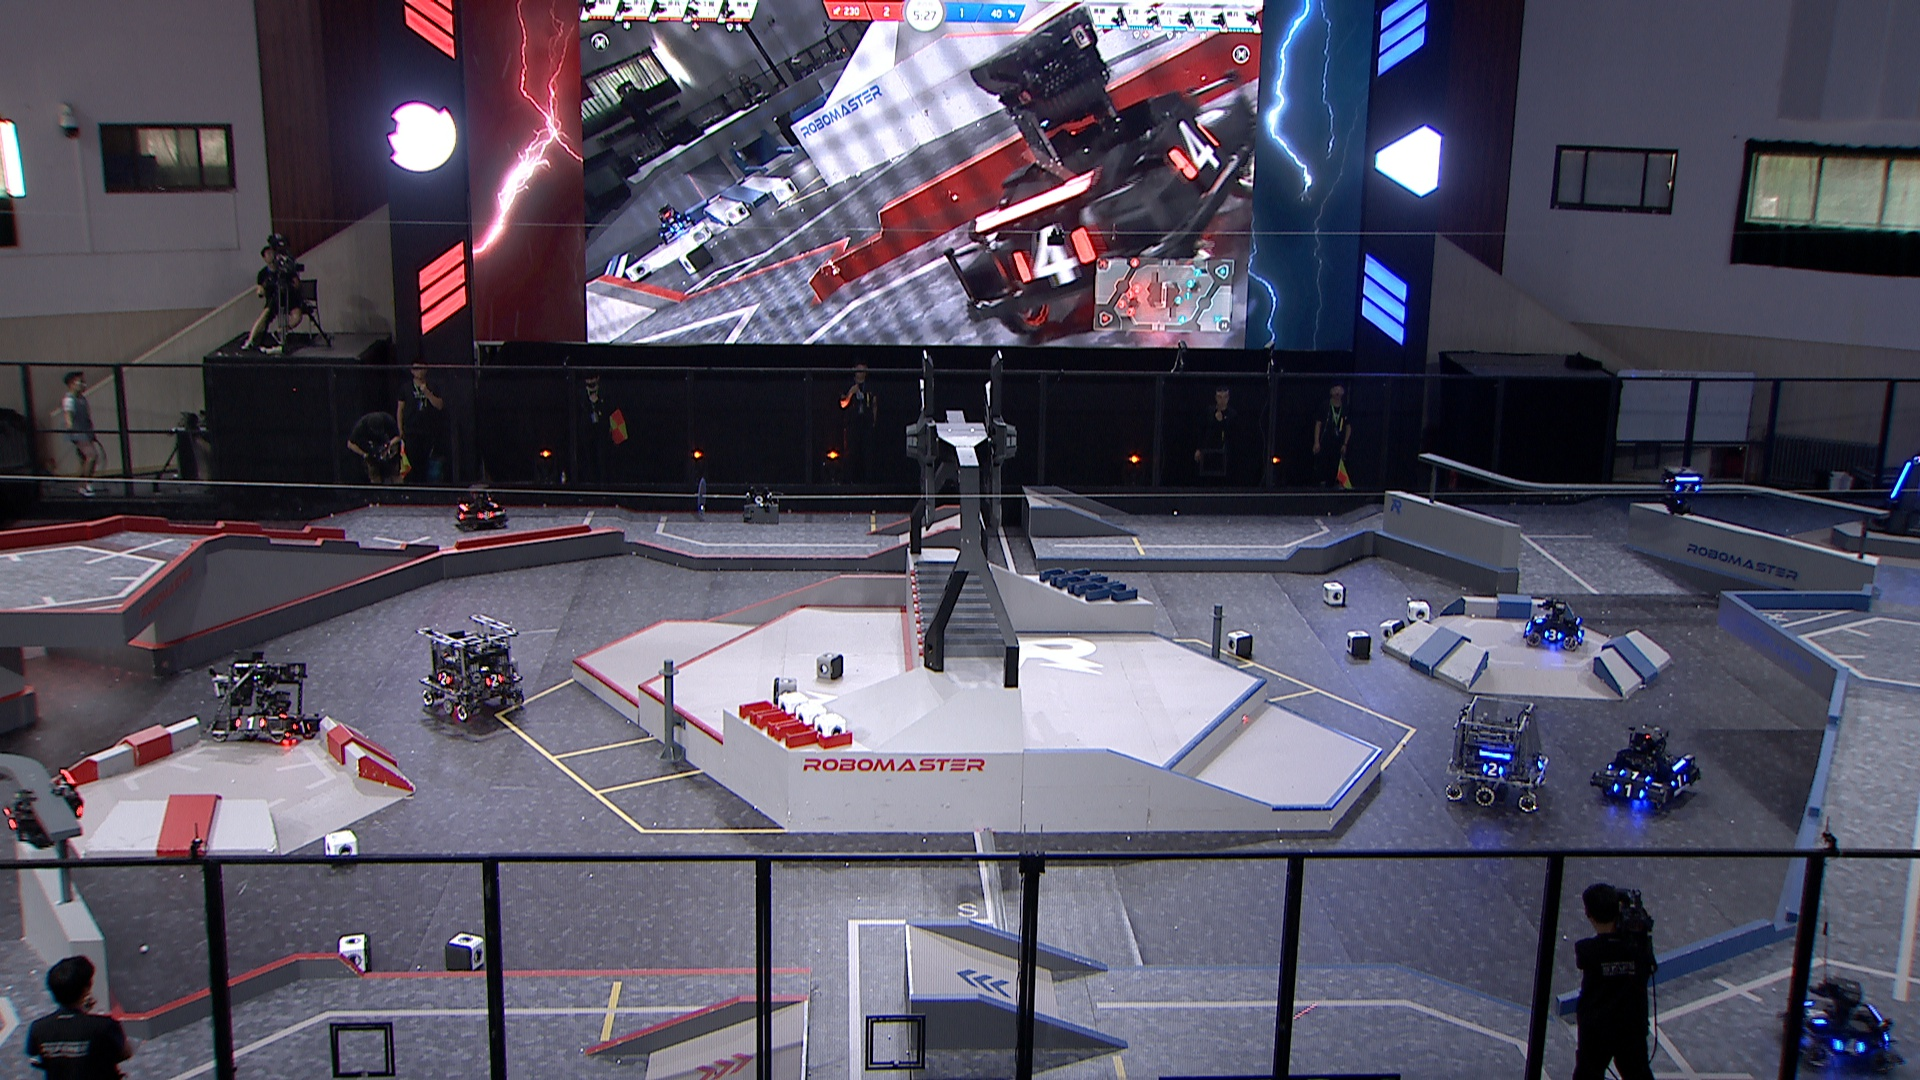armor: (1888, 460, 1912, 500), (1803, 998, 1828, 1030), (1836, 1035, 1865, 1058), (1613, 781, 1647, 799), (1617, 766, 1652, 783), (233, 717, 268, 732), (1, 806, 21, 829), (1667, 771, 1691, 789), (1481, 764, 1506, 779), (291, 719, 313, 736), (1673, 481, 1700, 495), (1542, 629, 1565, 644), (485, 673, 504, 688), (476, 508, 496, 522), (1531, 612, 1548, 626), (436, 671, 454, 684)
base: (1865, 458, 1920, 541)
car: (1447, 694, 1553, 820), (418, 612, 526, 725), (1774, 975, 1898, 1069), (210, 647, 323, 746), (1586, 727, 1702, 814), (1523, 593, 1588, 651), (455, 485, 509, 531)
ignore: (949, 8, 1258, 335), (654, 204, 698, 245)
watcher: (0, 765, 87, 851), (1662, 465, 1705, 520)
